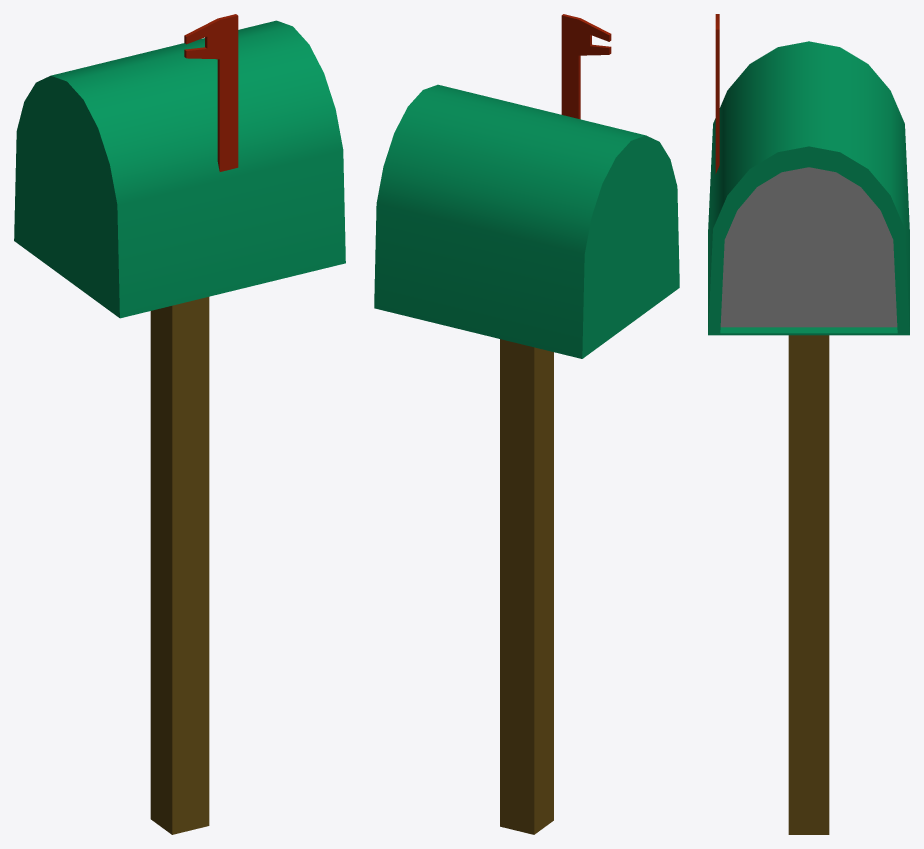
File: Mailbox.fbx
The picture shows the model from 3 angles, left to right: view 1: azimuth 30°, elevation 25°; view 2: azimuth 150°, elevation 25°; view 3: azimuth 270°, elevation 25°; orthographic projection. The views are drawn at different scales.
Parts seen in each view (by area): view 1: pCylinder2; view 2: pCylinder2; view 3: pCylinder2.
Boxes of the visible parts, bbox=[...] form: pCylinder2: bbox=[14, 14, 345, 834]; pCylinder2: bbox=[374, 14, 679, 834]; pCylinder2: bbox=[708, 14, 909, 834].
Bounding box in the file's own units: 60.96 × 217 × 49.47.
